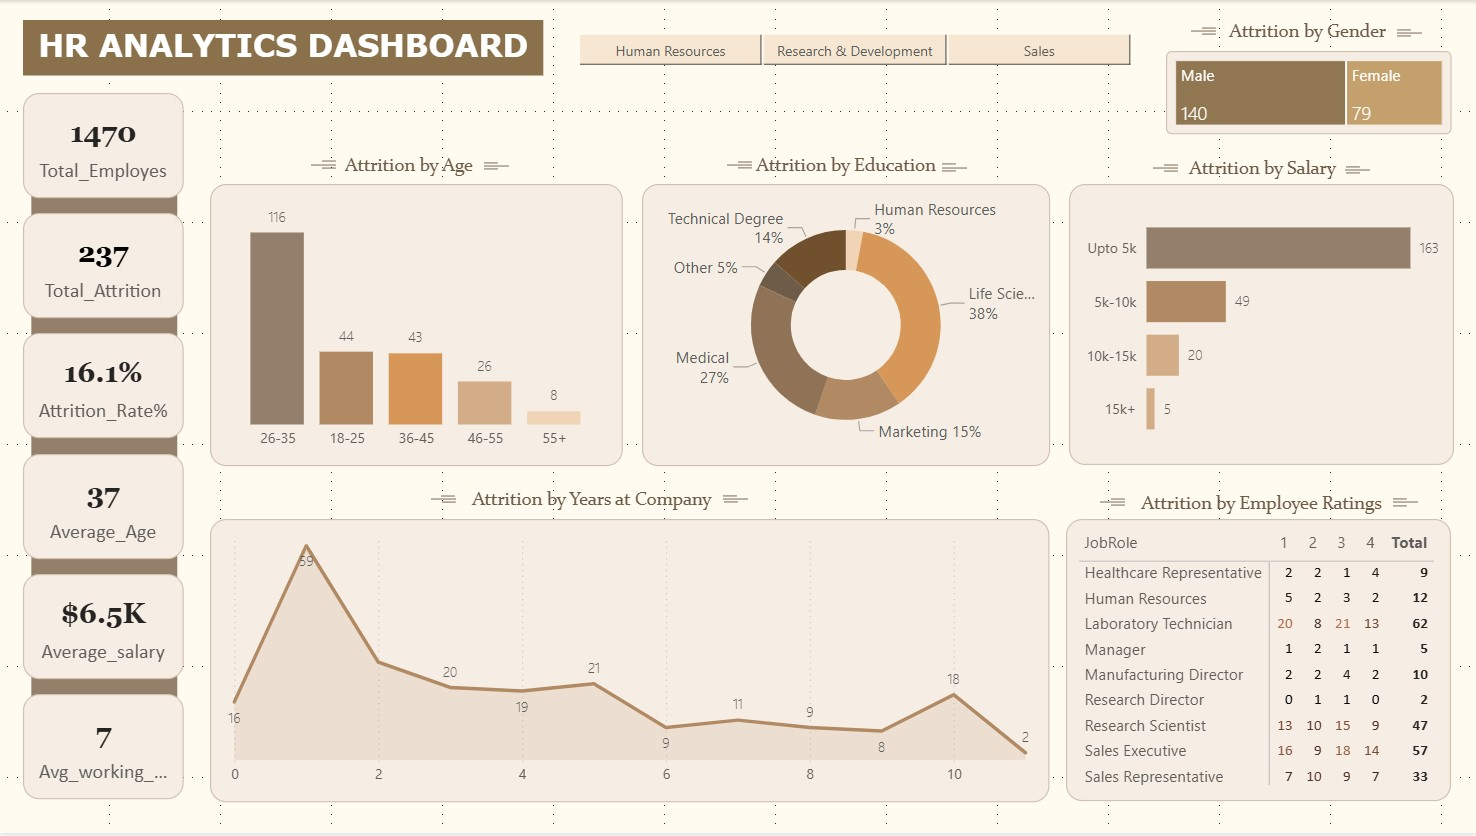

Layout of this report page (visuals, bound fields, positions):
{"tool":"powerbi","page":{"name":"Page 1","canvas":[1280,720],"ordinal":0},"visuals":[{"type":"textbox","box":[21.7,17.1,450.1,48],"z":0},{"type":"shape","box":[9.1,64.3,166.6,643.9],"z":1000},{"type":"card","fields":{"Values":["All_measures.Total_Employes"]},"box":[21.7,80.6,138.6,90.6],"z":2000},{"type":"card","fields":{"Values":["All_measures.Total_Attrition"]},"box":[21.8,184.5,138.6,90.6],"z":3000},{"type":"card","fields":{"Values":["All_measures.Attrition_Rate%"]},"box":[21.8,288.4,138.6,90.6],"z":4000},{"type":"card","fields":{"Values":["All_measures.Average_Age"]},"box":[21.8,392.2,138.6,90.6],"z":5000},{"type":"card","fields":{"Values":["All_measures.Average_salary"]},"box":[21.8,496.1,138.6,90.6],"z":6000},{"type":"card","fields":{"Values":["All_measures.Avg_working_year"]},"box":[21.6,600,139,91],"z":7000},{"type":"donutChart","fields":{"Y":["All_measures.Total_Attrition"],"Series":["HR_Analytics.EducationField"]},"box":[557,159,352.5,243.8],"z":8000},{"type":"textbox","box":[644.4,128.1,178.2,33.2],"z":9000},{"type":"columnChart","fields":{"Y":["All_measures.Total_Attrition"],"Category":["HR_Analytics.AgeGroup"]},"box":[183,158.9,357,244],"z":10000},{"type":"textbox","box":[294.8,127.8,120.7,32.9],"z":11000},{"type":"textbox","box":[983.1,130.3,220.7,33.3],"z":12000},{"type":"shape","box":[816.3,138.8,21.6,12.2],"z":13000},{"type":"shape","box":[816.4,136.1,12,12],"z":14000},{"type":"shape","box":[816.7,141.6,12,12],"z":15000},{"type":"shape","box":[630.3,136.8,21.6,12.2],"z":16000},{"type":"shape","box":[639.7,134,12.2,12.2],"z":17000},{"type":"shape","box":[639.7,139.4,12.2,11.9],"z":18000},{"type":"shape","box":[420.2,137.6,21.6,12.2],"z":19000},{"type":"shape","box":[420.3,134.9,12,12],"z":20000},{"type":"shape","box":[420.6,140.4,12,12],"z":21000},{"type":"shape","box":[270.4,136.4,21.6,12.2],"z":22000},{"type":"shape","box":[279.8,133.5,12.2,12.2],"z":23000},{"type":"shape","box":[279.9,139,12.2,12.2],"z":24000},{"type":"shape","box":[1165.4,140.8,21.6,12.2],"z":25000},{"type":"shape","box":[1165.5,138.1,12,12],"z":26000},{"type":"shape","box":[1165.7,143.6,12,12],"z":27000},{"type":"shape","box":[998.8,139.3,21.6,12.2],"z":28000},{"type":"shape","box":[1008.3,136.5,12.2,12.2],"z":29000},{"type":"shape","box":[1008.3,141.9,12.2,12.2],"z":30000},{"type":"clusteredBarChart","fields":{"Category":["HR_Analytics.SalarySlab"],"Y":["All_measures.Total_Attrition"]},"box":[926.5,159.2,333.3,243.3],"z":31000},{"type":"areaChart","fields":{"Category":["HR_Analytics.YearsAtCompany"],"Y":["All_measures.Total_Attrition"]},"box":[182.9,449.2,726.3,244.5],"z":32000},{"type":"pivotTable","fields":{"Rows":["HR_Analytics.JobRole"],"Columns":["HR_Analytics.JobSatisfaction"],"Values":["Sum(HR_Analytics.Attrition_count)"]},"box":[923.8,449.2,333.3,243.6],"z":33000},{"type":"textbox","box":[982.7,420.1,220.8,33.3],"z":34000},{"type":"shape","box":[1206.5,428.4,21.6,12.2],"z":35000},{"type":"shape","box":[1206.6,425.7,12,12],"z":36000},{"type":"shape","box":[1206.9,431.2,12,12],"z":37000},{"type":"shape","box":[953.3,428.4,21.6,12.2],"z":38000},{"type":"shape","box":[962.8,425.6,12.2,12.2],"z":39000},{"type":"shape","box":[962.9,431,12.2,12.2],"z":40000},{"type":"textbox","box":[403.4,417.2,220.8,33.3],"z":41000},{"type":"shape","box":[627.3,425.5,21.6,12.2],"z":42000},{"type":"shape","box":[627.4,422.8,12,12],"z":43000},{"type":"shape","box":[627.6,428.3,12,12],"z":44000},{"type":"shape","box":[374.1,425.6,21.6,12.2],"z":45000},{"type":"shape","box":[383.5,422.7,12.2,12.2],"z":46000},{"type":"shape","box":[383.6,428.1,12.2,12.2],"z":47000},{"type":"treemap","fields":{"Group":["HR_Analytics.Gender"],"Values":["All_measures.Total_Attrition"]},"box":[1009.8,44.4,247.2,72.5],"z":48000},{"type":"textbox","box":[1022.5,11.8,220.7,33.3],"z":49000},{"type":"shape","box":[1209.9,22.5,21.6,12.2],"z":50000},{"type":"shape","box":[1210,19.8,12,12],"z":51000},{"type":"shape","box":[1210.2,25.3,12,12],"z":52000},{"type":"shape","box":[1031.6,20.7,21.6,12.2],"z":53000},{"type":"shape","box":[1041.1,17.9,12.2,12.2],"z":54000},{"type":"shape","box":[1041.2,23.3,12.2,12.2],"z":55000},{"type":"slicer","fields":{"Values":["HR_Analytics.Department"]},"box":[484.5,25.3,514.4,36.2],"z":56000}]}

Visuals, with their boxes in screenshot pixels (x1, y1, x2, y2), scaled from the page's 1280x720 canvas onto the 1476x836 screenshot:
textbox: 25,20,544,76
shape: 10,75,203,822
card - All_measures.Total_Employes: 25,94,185,199
card - All_measures.Total_Attrition: 25,214,185,319
card - All_measures.Attrition_Rate%: 25,335,185,440
card - All_measures.Average_Age: 25,455,185,561
card - All_measures.Average_salary: 25,576,185,681
card - All_measures.Avg_working_year: 25,697,185,802
donutChart - All_measures.Total_Attrition x HR_Analytics.EducationField: 642,185,1049,468
textbox: 743,149,949,187
columnChart - All_measures.Total_Attrition x HR_Analytics.AgeGroup: 211,185,623,468
textbox: 340,148,479,187
textbox: 1134,151,1388,190
shape: 941,161,966,175
shape: 941,158,955,172
shape: 942,164,956,178
shape: 727,159,752,173
shape: 738,156,752,170
shape: 738,162,752,176
shape: 485,160,509,174
shape: 485,157,498,171
shape: 485,163,499,177
shape: 312,158,337,173
shape: 323,155,337,169
shape: 323,161,337,176
shape: 1344,163,1369,178
shape: 1344,160,1358,174
shape: 1344,167,1358,181
shape: 1152,162,1177,176
shape: 1163,158,1177,173
shape: 1163,165,1177,179
clusteredBarChart - HR_Analytics.SalarySlab x All_measures.Total_Attrition: 1068,185,1453,467
areaChart - HR_Analytics.YearsAtCompany x All_measures.Total_Attrition: 211,522,1048,805
pivotTable - HR_Analytics.JobRole x HR_Analytics.JobSatisfaction: 1065,522,1450,804
textbox: 1133,488,1388,526
shape: 1391,497,1416,512
shape: 1391,494,1405,508
shape: 1392,501,1406,515
shape: 1099,497,1124,512
shape: 1110,494,1124,508
shape: 1110,500,1124,515
textbox: 465,484,720,523
shape: 723,494,748,508
shape: 723,491,737,505
shape: 724,497,738,511
shape: 431,494,456,508
shape: 442,491,456,505
shape: 442,497,456,511
treemap - HR_Analytics.Gender x All_measures.Total_Attrition: 1164,52,1449,136
textbox: 1179,14,1434,52
shape: 1395,26,1420,40
shape: 1395,23,1409,37
shape: 1396,29,1409,43
shape: 1190,24,1214,38
shape: 1201,21,1215,35
shape: 1201,27,1215,41
slicer - HR_Analytics.Department: 559,29,1152,71
